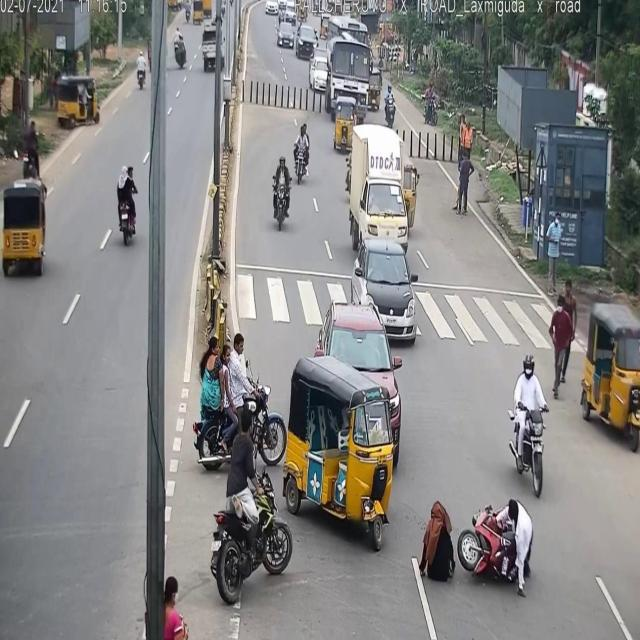accident: (412, 479, 538, 601)
non_accident: (305, 38, 419, 354), (259, 1, 307, 46), (188, 0, 216, 29)
